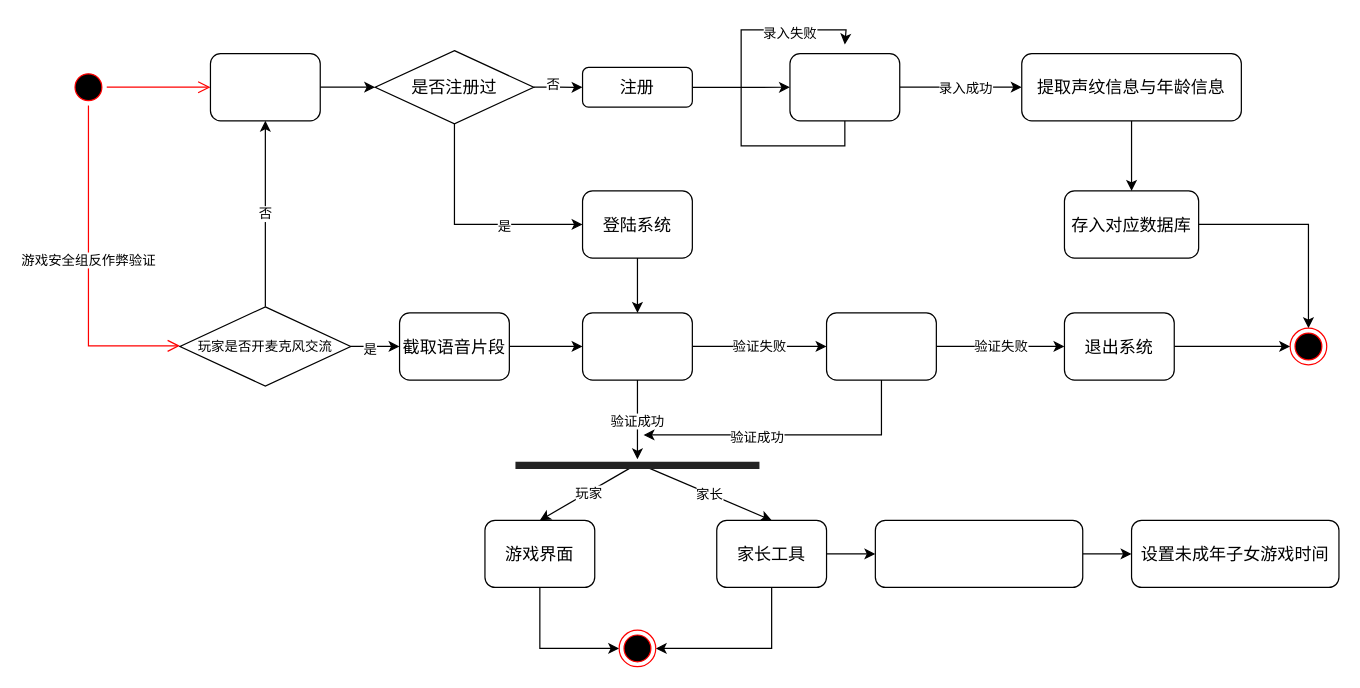
This 1360x688 diagram has some shape labels left out. Here are the shapes that lost their labels. From the top down, the box of each, then its label:
(209, 52, 320, 121): 启动系统
(789, 52, 900, 121): 声纹录入
(581, 312, 692, 380): 声纹验证
(825, 312, 936, 380): 人脸验证
(874, 519, 1083, 587): 绑定未成年子女游戏帐号
